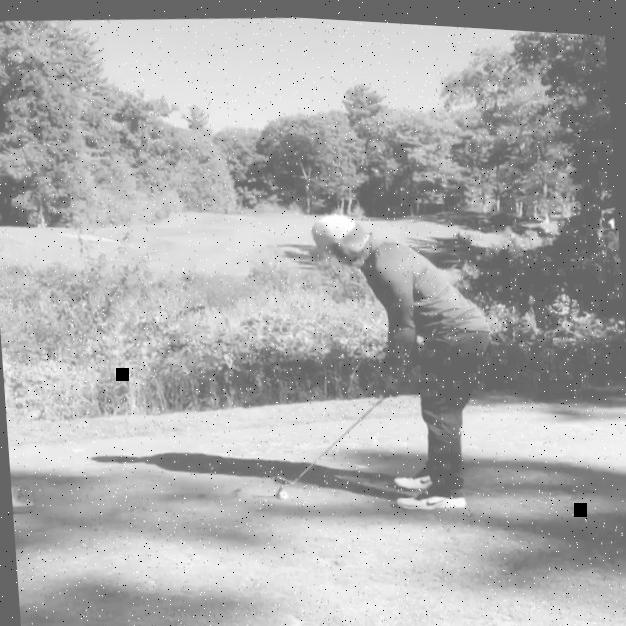ClubHead: (273, 472, 292, 484)
GolfBall: (277, 487, 289, 496)
